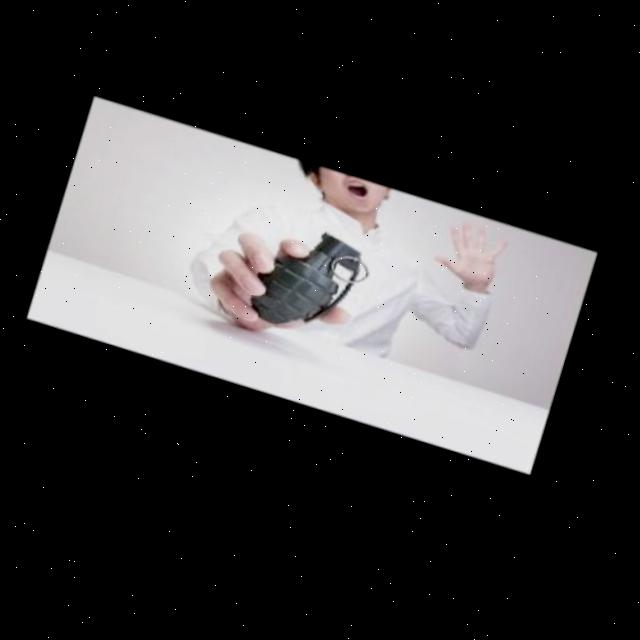grenade: (204, 201, 387, 360)
